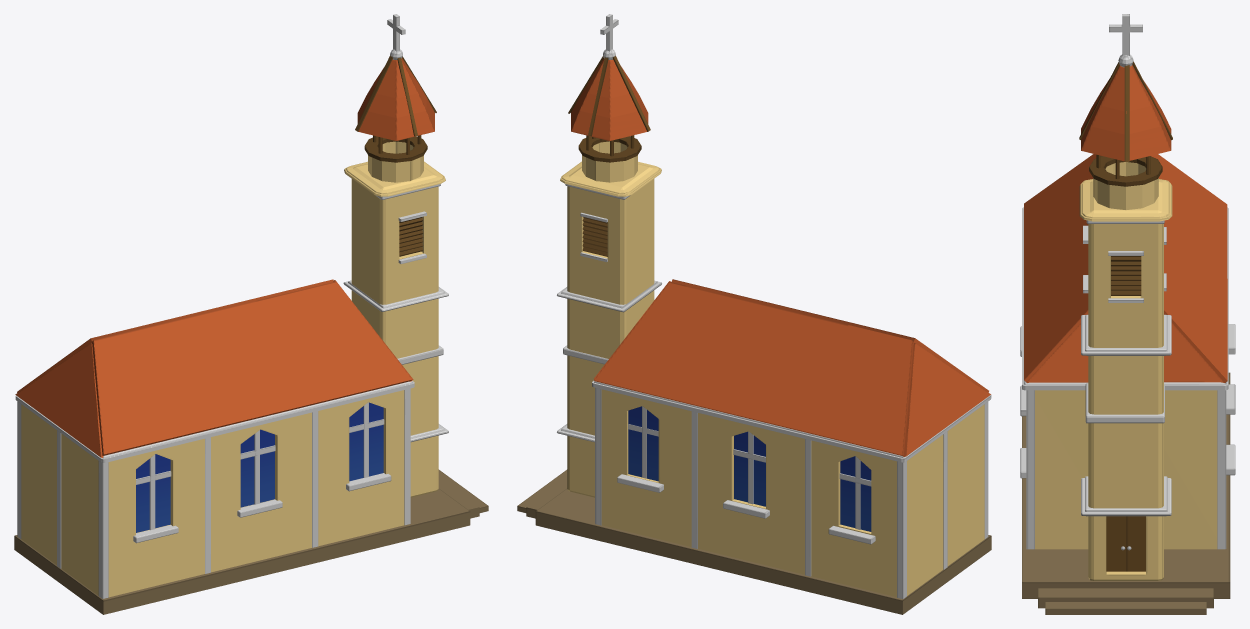
Rendered from church_byzantine.obj.
3 views of the same model, side by side, from view 1: azimuth 30°, elevation 25°; view 2: azimuth 150°, elevation 25°; view 3: azimuth 270°, elevation 25° (orthographic). The views are drawn at different scales.
Size of the model in its own units: 574 by 670 by 230.
1 material, 1 textured.
